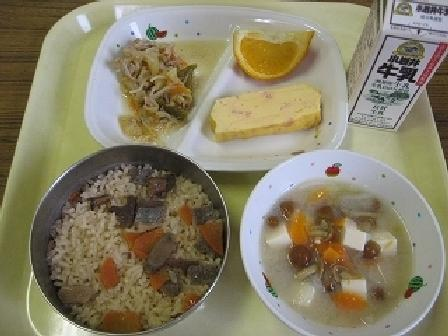Citrus: (230, 21, 316, 84)
Milk: (335, 0, 446, 130)
Mixed rice: (39, 141, 222, 328)
Soups: (243, 157, 435, 325)
egg product: (209, 74, 328, 146)
vegetable based cooked food: (107, 35, 202, 137)
